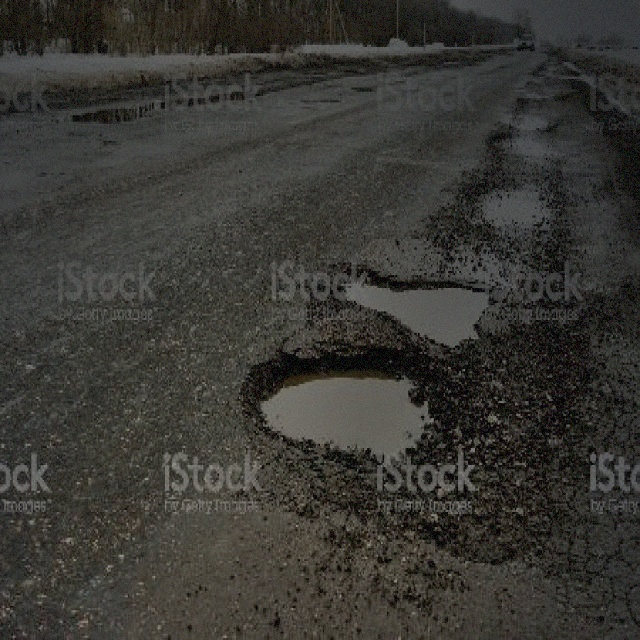pothole: (235, 337, 465, 478), (333, 260, 493, 346), (475, 182, 548, 232), (488, 128, 550, 158), (500, 107, 550, 128)
